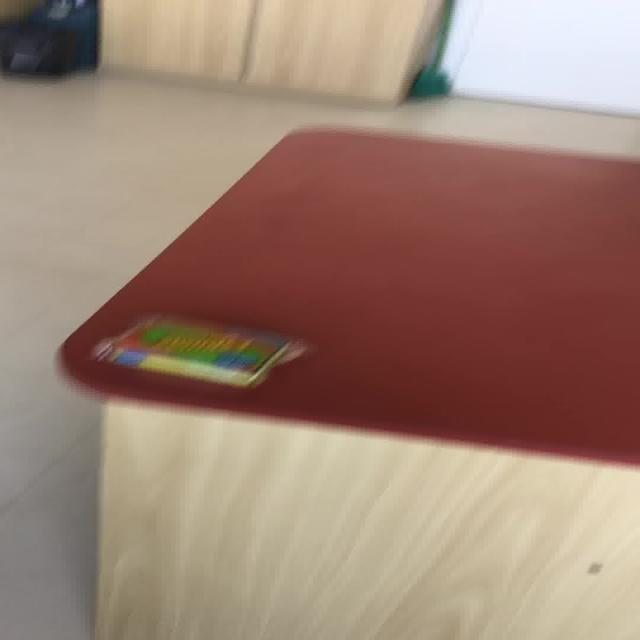sponge: (90, 313, 308, 389)
